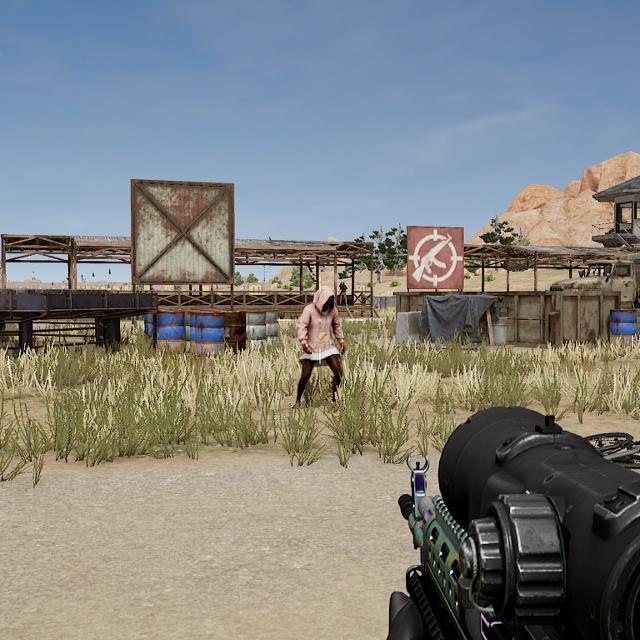head: (311, 283, 340, 316)
people: (295, 282, 348, 409)
